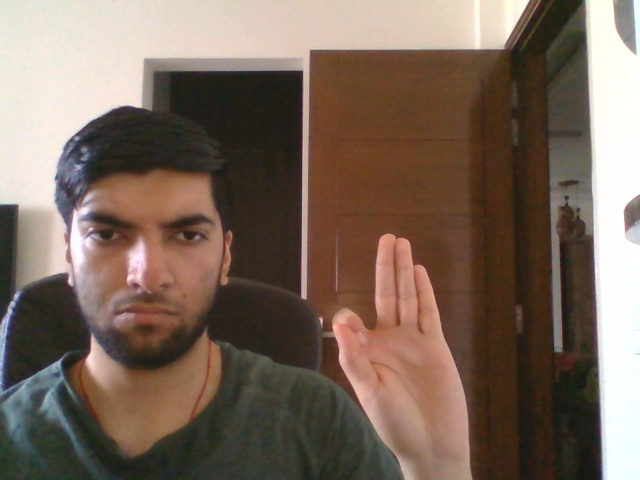LetterF: (332, 233, 470, 457)
